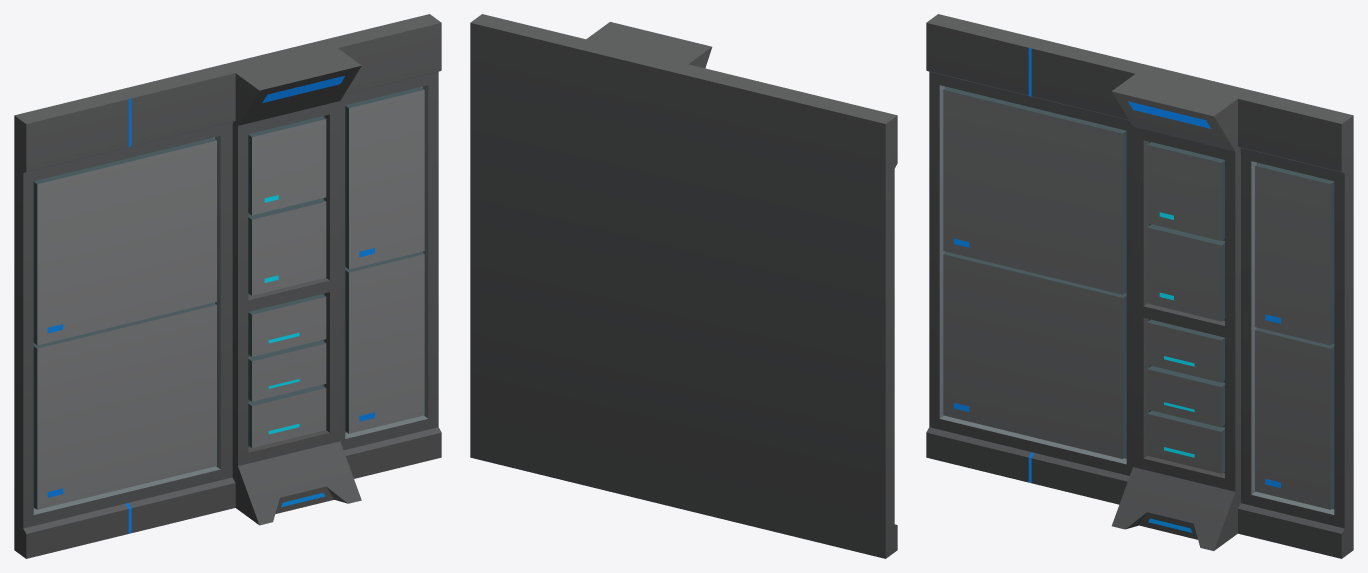
The model's file is Wall_type_B_009.glb.
The picture shows the model from 3 angles, left to right: view 1: azimuth 30°, elevation 25°; view 2: azimuth 150°, elevation 25°; view 3: azimuth 330°, elevation 25°; orthographic projection.
Visible parts, largest first — view 1: Wall_type_B_009; view 2: Wall_type_B_009; view 3: Wall_type_B_009.
Boxes of the visible parts, x1,y1,x2,y2 form: Wall_type_B_009: [14, 14, 441, 558]; Wall_type_B_009: [470, 14, 897, 558]; Wall_type_B_009: [926, 14, 1353, 558].
Size of the model in its own units: 4 by 4 by 0.6.
2 materials, 2 textured.
